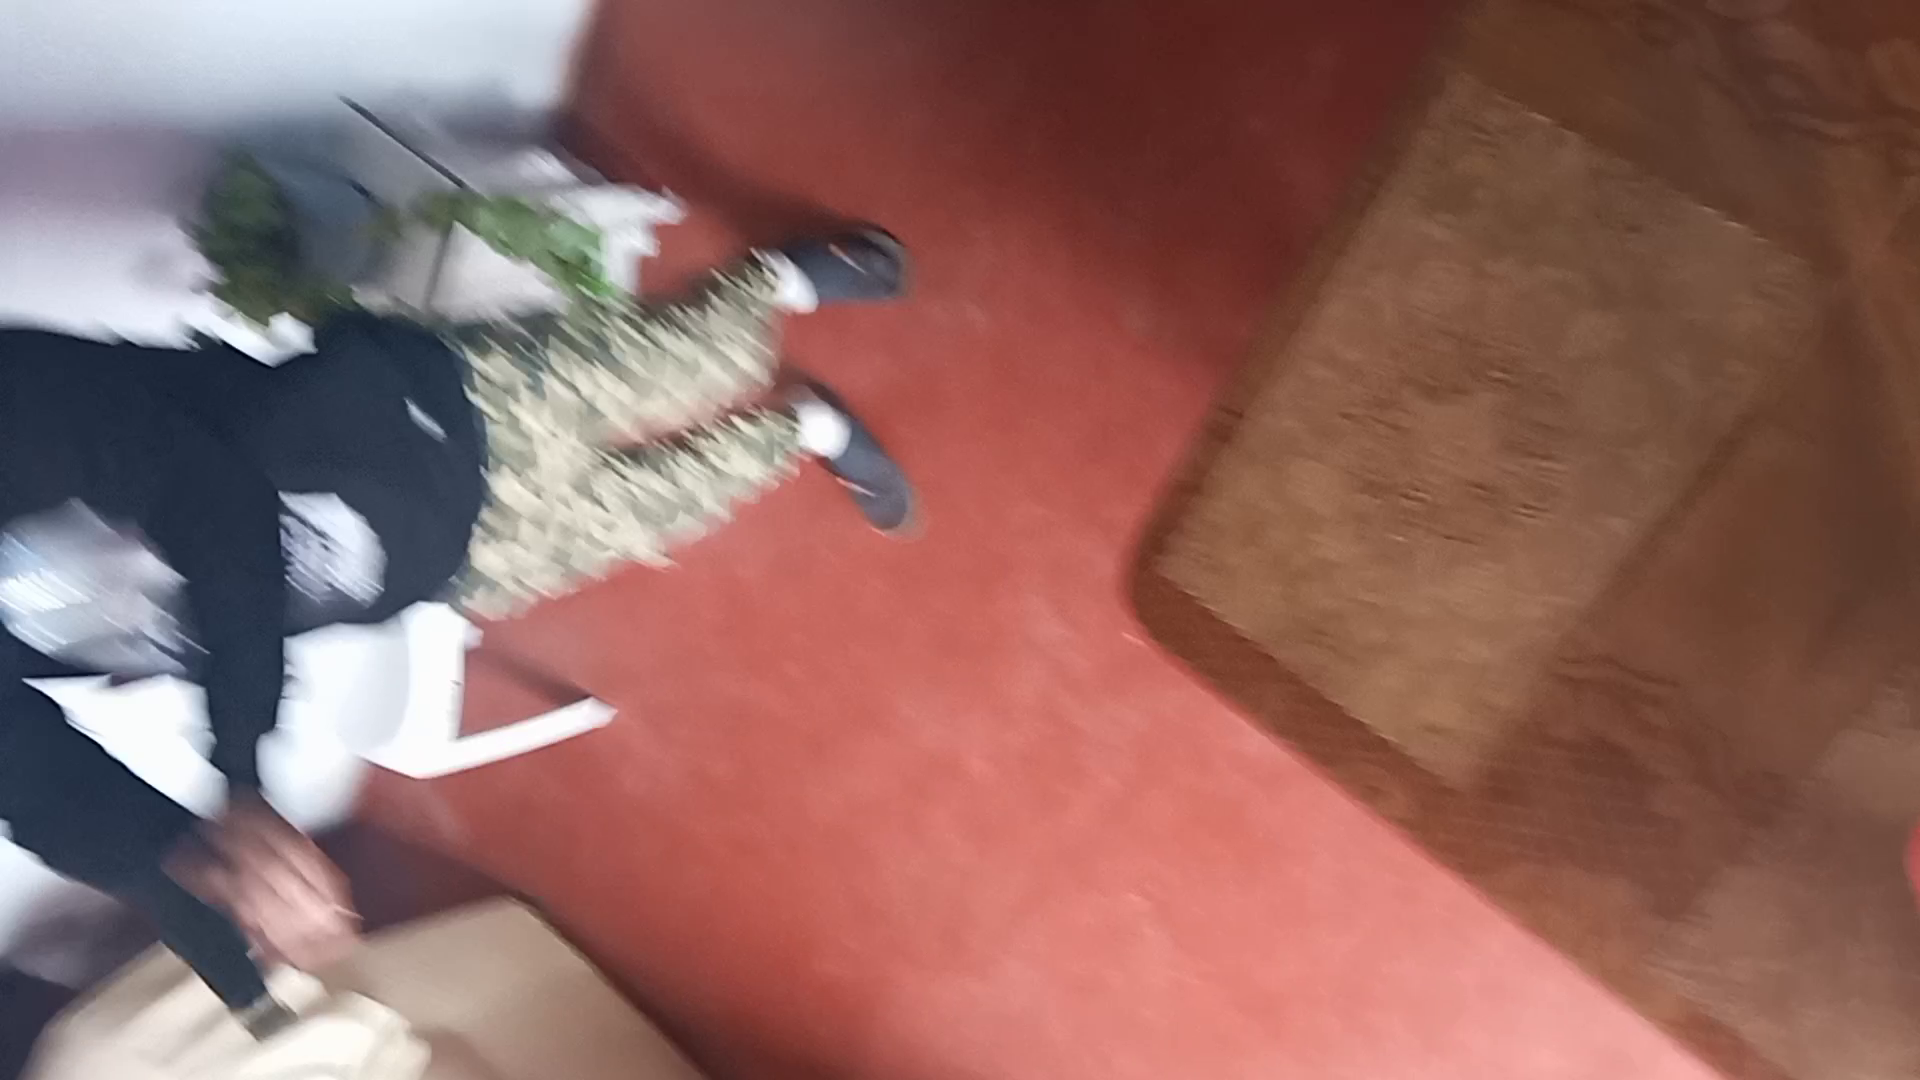Arma: (162, 881, 294, 1050)
